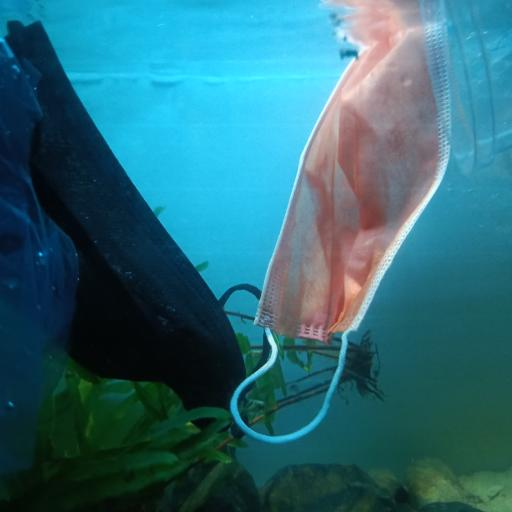mask: (0, 20, 249, 437), (231, 30, 454, 446)
plastic_bag: (0, 44, 82, 476)
plastic_cup: (421, 0, 512, 175)
